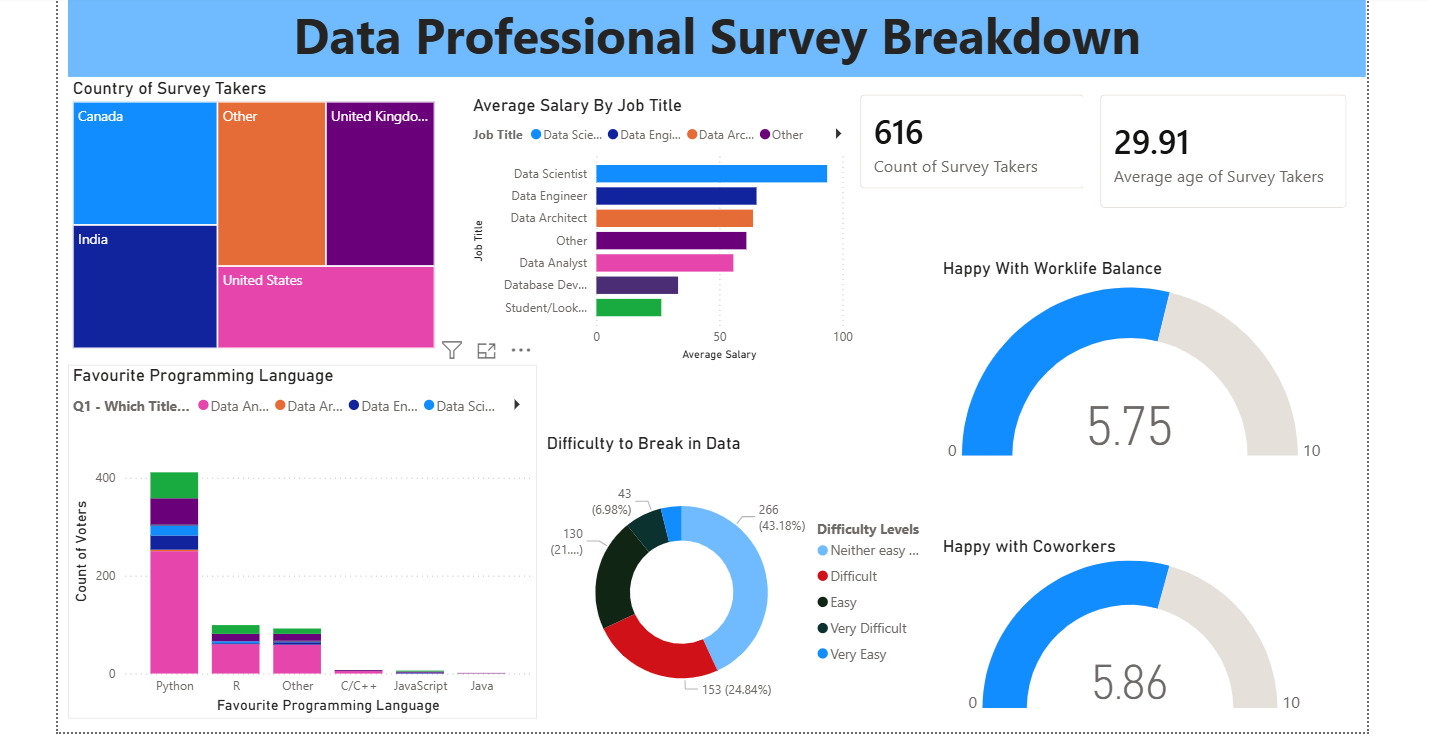

Layout of this report page (visuals, bound fields, positions):
{"tool":"powerbi","page":{"name":"Page 1","canvas":[1280,720],"ordinal":0},"visuals":[{"type":"textbox","box":[9.4,0,1269.9,79.4],"z":0},{"type":"cardVisual","fields":{"Data":["CountNonNull(Data Professional Survey.Unique ID)"]},"box":[768.5,79.6,253.9,126.3],"z":1000},{"type":"cardVisual","fields":{"Data":["Avg(Data Professional Survey.Q10 - Current Age)"]},"box":[1003.2,79.6,275.8,145.5],"z":2000},{"type":"barChart","title":"Average Salary By Job Title","fields":{"Category":["Data Professional Survey.Q1 - Which Title Best Fits your Current Role?.1"],"Y":["Avg(Data Professional Survey.Average Salary)"],"Series":["Data Professional Survey.Q1 - Which Title Best Fits your Current Role?.1"]},"box":[400.7,96.1,381.5,264.9],"z":3000},{"type":"columnChart","title":"Favourite Programming Language","fields":{"Category":["Data Professional Survey.Q5 - Favorite Programming Language.1"],"Y":["CountNonNull(Data Professional Survey.Unique ID)"],"Series":["Data Professional Survey.Q1 - Which Title Best Fits your Current Role?.1"]},"box":[9.6,360.9,458.4,345.8],"z":4000},{"type":"treemap","title":"Country of Survey Takers","fields":{"Group":["Data Professional Survey.Q11 - Which Country do you live in?.1"],"Values":["Count(Data Professional Survey.Q11 - Which Country do you live in?.1)"]},"box":[9.6,79.6,363.7,270.3],"z":5000},{"type":"gauge","title":"Happy With Worklife Balance","fields":{"TargetValue":["CountNonNull(Data Professional Survey.Q6 - How Happy are you in your Current Position with the following? (Work/Life Bal"],"Y":["Avg(Data Professional Survey.Q6 - How Happy are you in your Current Position with the following? (Work/Life Balance))"],"MaxValue":["Max(Data Professional Survey.Q6 - How Happy are you in your Current Position with the following? (Work/Life Balance))"],"MinValue":["Min(Data Professional Survey.Q6 - How Happy are you in your Current Position with the following? (Work/Life Balance))1"]},"box":[861.1,255.8,384.6,209.8],"z":6000},{"type":"gauge","title":"Happy with Coworkers","fields":{"Y":["Avg(Data Professional Survey.Q6 - How Happy are you in your Current Position with the following? (Coworkers))"],"MinValue":["Min(Data Professional Survey.Q6 - How Happy are you in your Current Position with the following? (Coworkers))"],"MaxValue":["Max(Data Professional Survey.Q6 - How Happy are you in your Current Position with the following? (Coworkers))"]},"box":[861.1,528.1,384.6,178.5],"z":7000},{"type":"donutChart","title":"Difficulty to Break in Data","fields":{"Category":["Data Professional Survey.Q7 - How difficult was it for you to break into Data?"],"Y":["CountNonNull(Data Professional Survey.Average Salary)"]},"box":[473.3,426.3,388,294.1],"z":8000}]}

Visuals, with their boxes on the page's 1280x720 design canvas (x1, y1, x2, y2). These are canvas units, not pixel positions in the 1429x740 screenshot, which may show the page scaled, cropped or inside an application window:
textbox: rect(9, 0, 1279, 79)
cardVisual - CountNonNull(Data Professional Survey.Unique ID): rect(768, 80, 1022, 206)
cardVisual - Avg(Data Professional Survey.Q10 - Current Age): rect(1003, 80, 1279, 225)
"Average Salary By Job Title" barChart: rect(401, 96, 782, 361)
"Favourite Programming Language" columnChart: rect(10, 361, 468, 707)
"Country of Survey Takers" treemap: rect(10, 80, 373, 350)
"Happy With Worklife Balance" gauge: rect(861, 256, 1246, 466)
"Happy with Coworkers" gauge: rect(861, 528, 1246, 707)
"Difficulty to Break in Data" donutChart: rect(473, 426, 861, 720)
